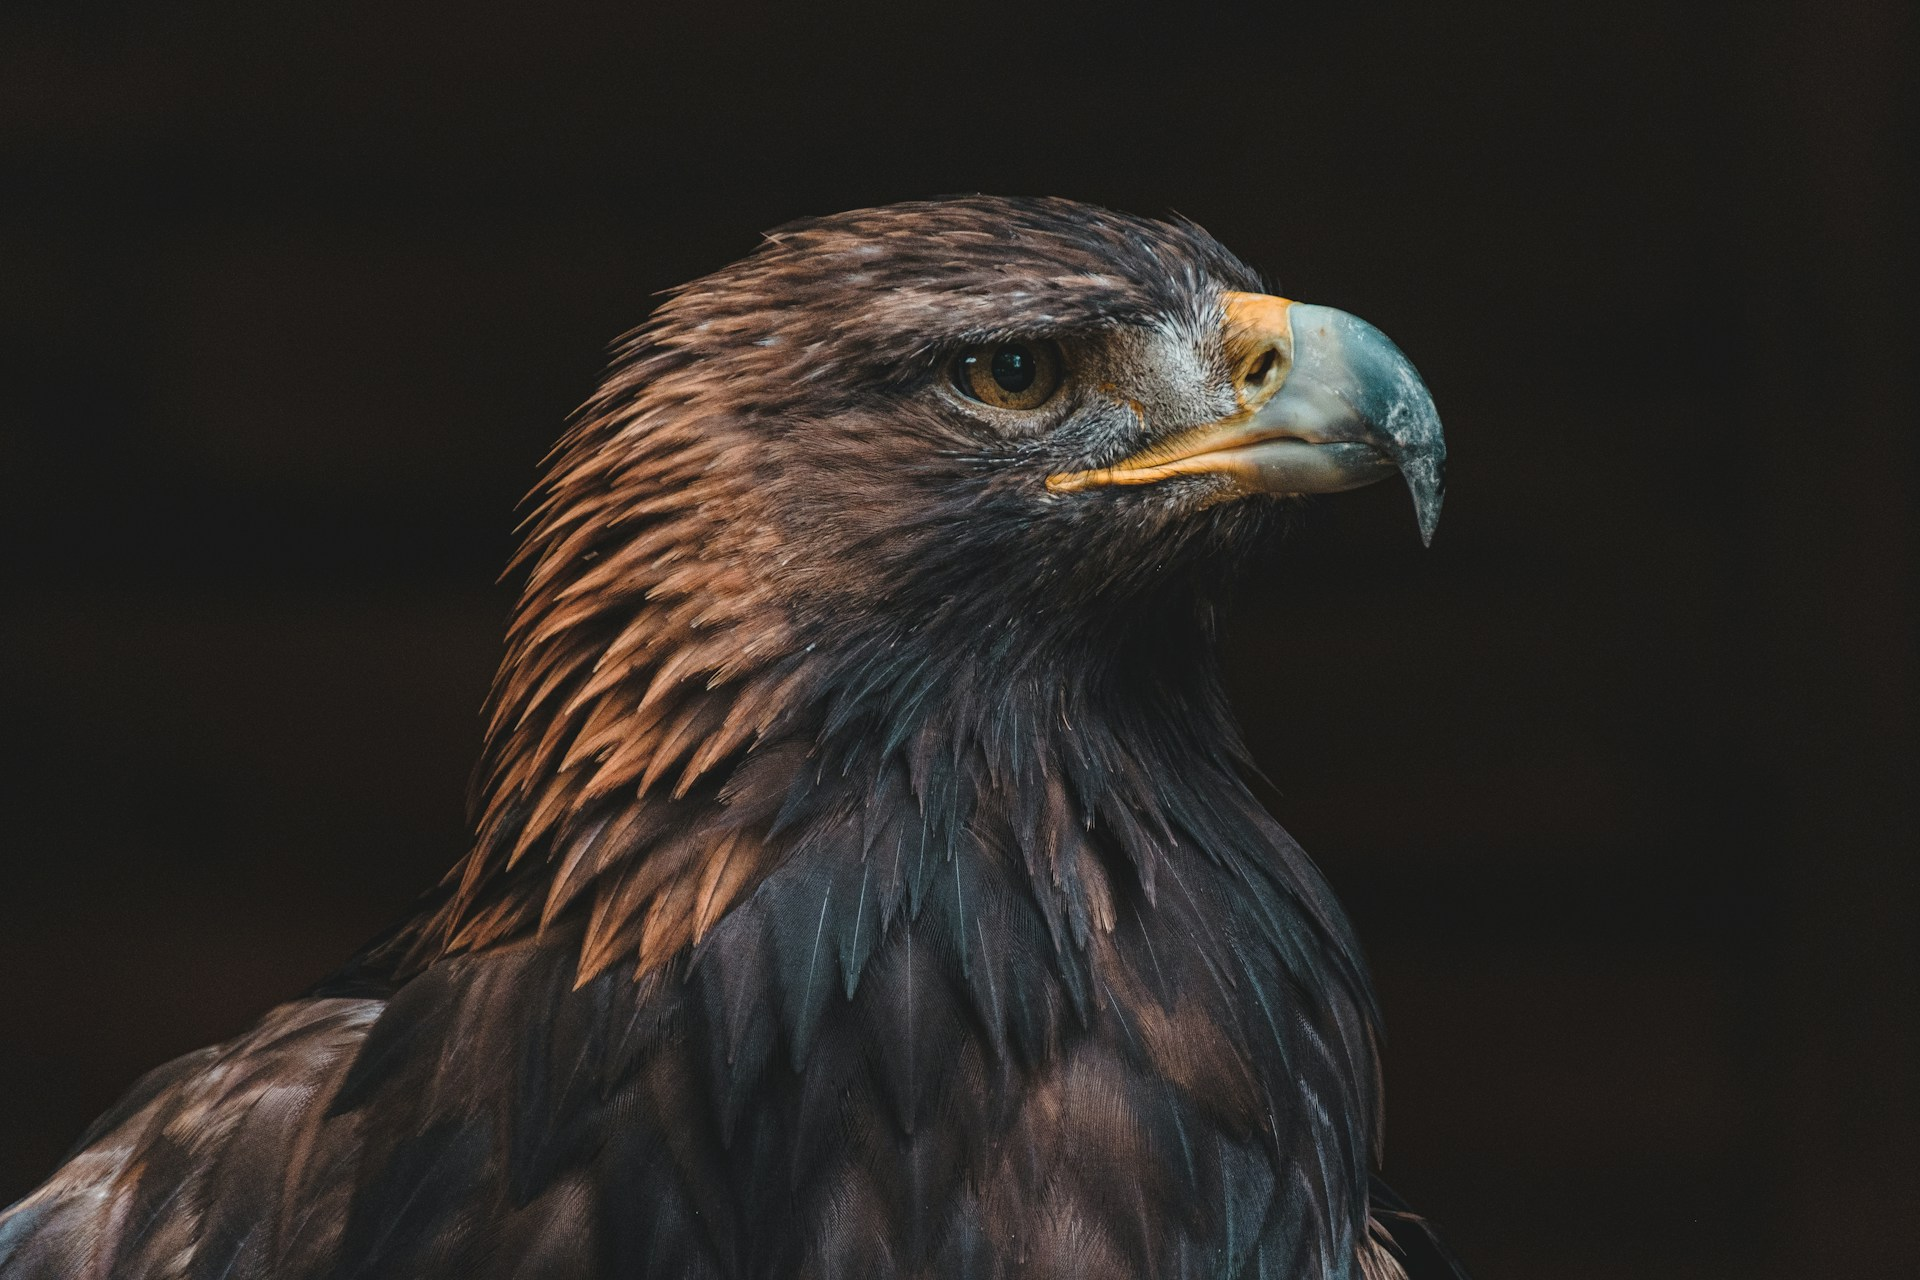eagle: (1, 170, 1489, 1280)
